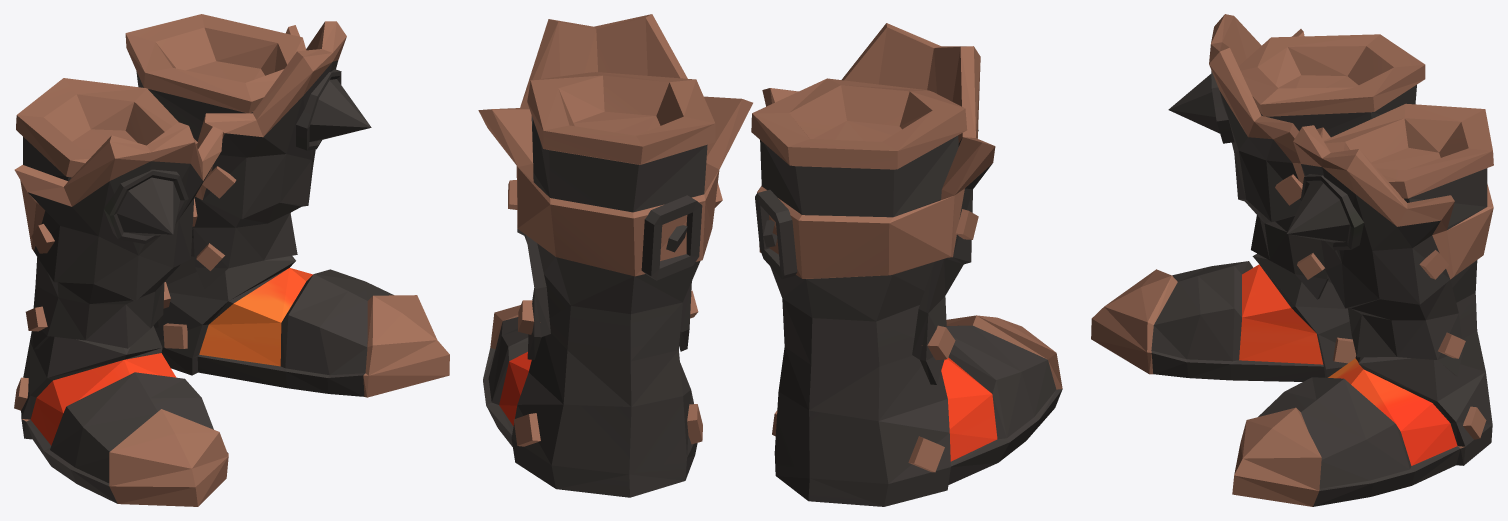
The model's file is bootsHellDisplay.fbx.
3 renders of one model, left to right at view 1: azimuth 30°, elevation 25°; view 2: azimuth 150°, elevation 25°; view 3: azimuth 270°, elevation 25°, orthographic. The views are drawn at different scales.
Parts seen in each view (by area): view 1: bootsHellDisplay; view 2: bootsHellDisplay; view 3: bootsHellDisplay.
Boxes of the visible parts, x1,y1,x2,y2 form: bootsHellDisplay: [14, 14, 449, 506]; bootsHellDisplay: [478, 14, 1062, 506]; bootsHellDisplay: [1091, 14, 1493, 506].
Size of the model in its own units: 1.57 by 1.18 by 1.33.
2 materials, 2 textured.
